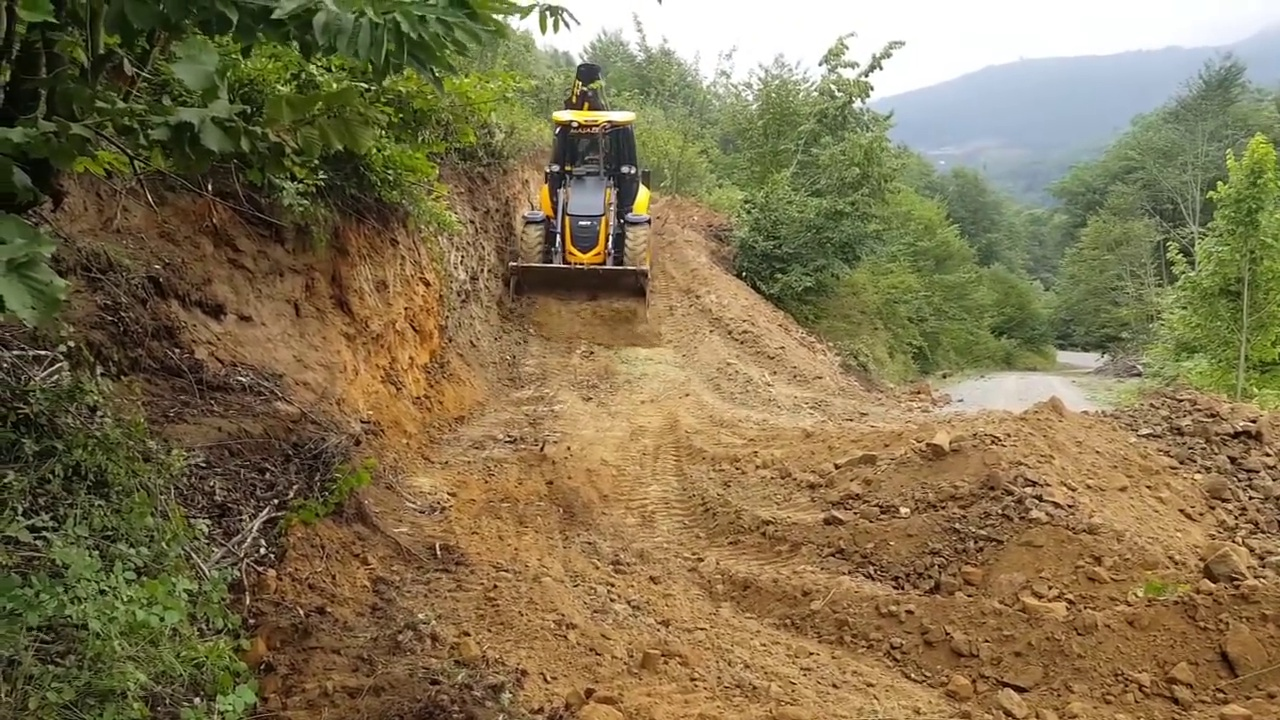wheel loader: (509, 60, 654, 313)
